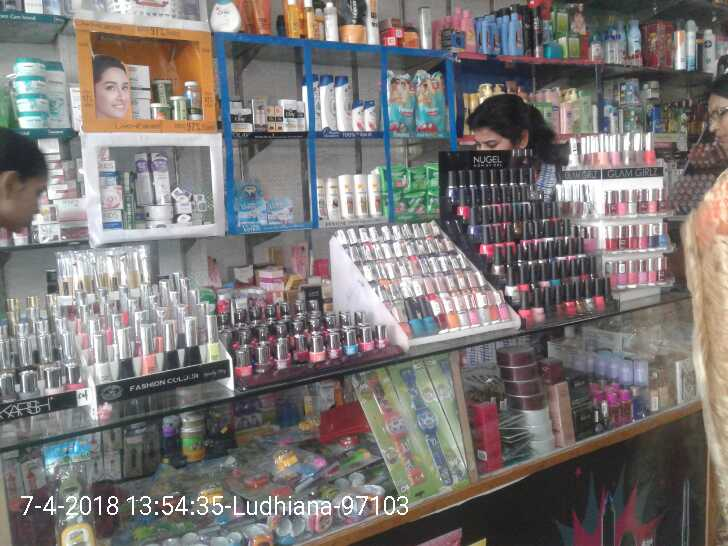ambipureVesus: (630, 15, 644, 65), (616, 15, 627, 64), (687, 20, 696, 70)
venus: (239, 180, 267, 225), (268, 196, 293, 225)
